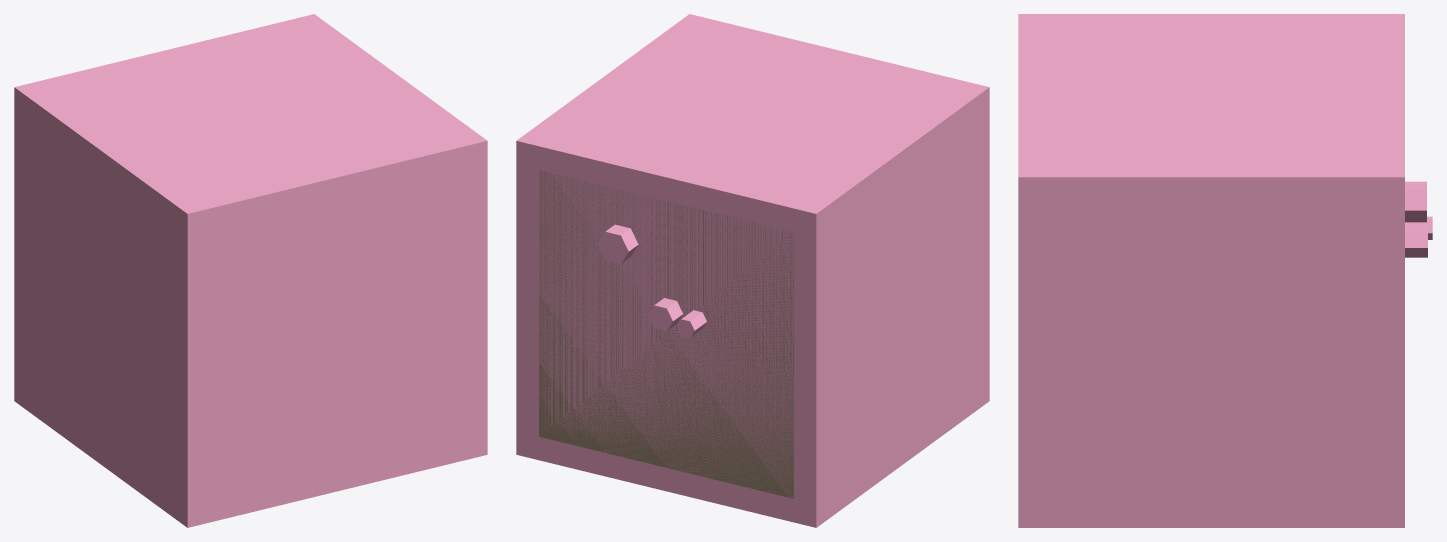
Rendered from 64_coral_poppy.glb.
3 views of the same model, side by side, from view 1: azimuth 30°, elevation 25°; view 2: azimuth 150°, elevation 25°; view 3: azimuth 270°, elevation 25° (orthographic). The views are drawn at different scales.
Visible parts, largest first — view 1: Core; view 2: Core, Soil, Coral_4, Coral_0, Coral_7; view 3: Core, Coral_4, Coral_0.
Boxes of the visible parts, left/top/right/bottom form: Core: left=14, top=14, right=487, bottom=527; Core: left=516, top=14, right=989, bottom=527; Soil: left=539, top=170, right=793, bottom=498; Coral_4: left=597, top=224, right=638, bottom=263; Coral_0: left=648, top=298, right=682, bottom=331; Coral_7: left=676, top=310, right=706, bottom=337; Core: left=1018, top=14, right=1404, bottom=527; Coral_4: left=1405, top=181, right=1426, bottom=222; Coral_0: left=1405, top=225, right=1427, bottom=257.
Size of the model in its own units: 1 by 1 by 1.07.
